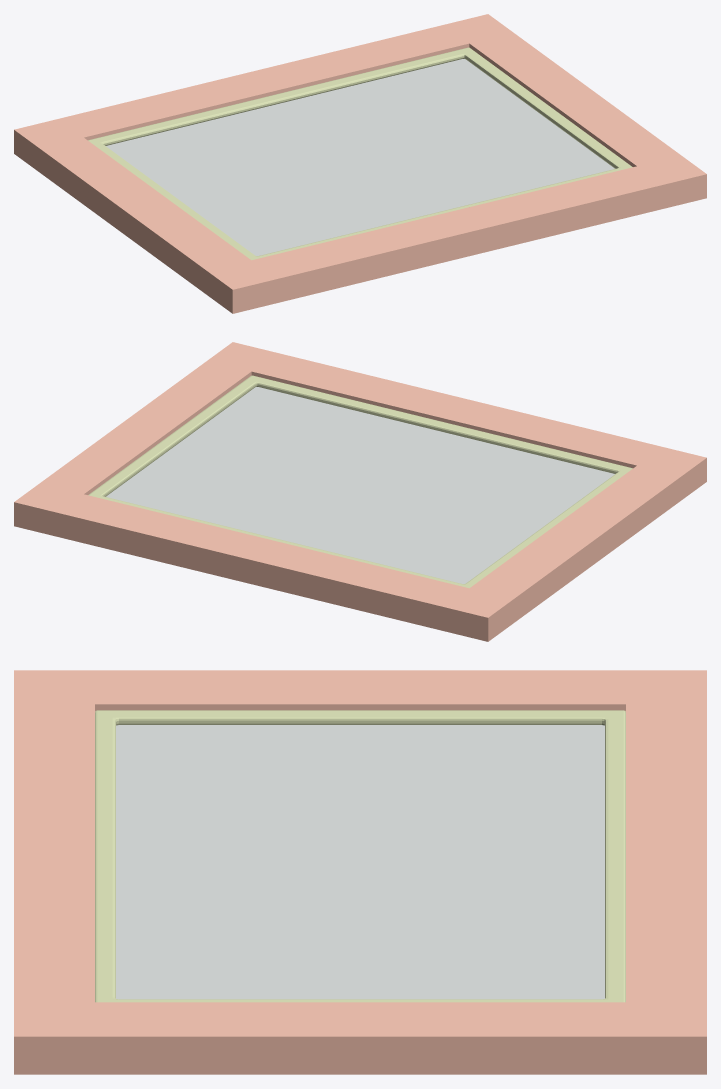
File: broken_photo_frame_1.1.fbx
3 renders of one model, top to bottom at view 1: azimuth 30°, elevation 25°; view 2: azimuth 150°, elevation 25°; view 3: azimuth 270°, elevation 25°, orthographic. The views are drawn at different scales.
Parts seen in each view (by area): view 1: Plane, Plane.001, Plane.001_cell.003, Plane_cell.001, Plane_cell, Plane_cell.002, Plane.002, Plane.002_cell.003, Plane.002_cell.001, Plane_cell.004, Plane_cell.003, Plane.002_cell.002; view 2: Plane, Plane.001, Plane.001_cell.003, Plane_cell, Plane_cell.001, Plane.002, Plane_cell.002, Plane.002_cell.001, Plane_cell.004, Plane.002_cell.003, Plane_cell.003, Plane.002_cell.002; view 3: Plane, Plane.001, Plane.001_cell.003, Plane_cell.002, Plane_cell.001, Plane.001_cell.001, Plane.002, Plane_cell, Plane.002_cell.001, Plane.002_cell.003, Plane_cell.004.
Boxes of the visible parts, box(x1,y1,x2,y2) form: Plane: box(14, 28, 706, 313); Plane.001: box(106, 69, 614, 255); Plane.001_cell.003: box(269, 69, 555, 194); Plane_cell.001: box(14, 119, 228, 277); Plane_cell: box(57, 57, 338, 140); Plane_cell.002: box(315, 28, 706, 237); Plane.002: box(88, 55, 632, 260); Plane.002_cell.003: box(177, 47, 508, 123); Plane.002_cell.001: box(88, 119, 504, 259); Plane_cell.004: box(340, 14, 507, 50); Plane_cell.003: box(183, 238, 487, 313); Plane.002_cell.002: box(503, 76, 575, 132); Plane: box(14, 342, 706, 641); Plane.001: box(117, 387, 614, 583); Plane.001_cell.003: box(133, 433, 416, 544); Plane_cell: box(189, 526, 461, 624); Plane_cell.001: box(447, 482, 656, 641); Plane.002: box(102, 375, 632, 587); Plane_cell.002: box(34, 348, 392, 543); Plane.002_cell.001: box(374, 406, 632, 588); Plane_cell.004: box(14, 488, 161, 538); Plane.002_cell.003: box(88, 467, 375, 565); Plane_cell.003: box(475, 427, 706, 516); Plane.002_cell.002: box(125, 419, 203, 468); Plane: box(14, 670, 706, 1074); Plane.001: box(116, 725, 604, 999); Plane.001_cell.003: box(193, 854, 604, 999); Plane_cell.002: box(14, 901, 706, 1074); Plane_cell.001: box(167, 670, 706, 711); Plane.001_cell.001: box(116, 725, 604, 861); Plane.002: box(95, 710, 625, 1002); Plane_cell: box(626, 703, 706, 901); Plane.002_cell.001: box(95, 710, 625, 909); Plane.002_cell.003: box(485, 782, 625, 1002); Plane_cell.004: box(645, 921, 706, 1074).
Bounding box in the file's own units: 250 × 12.16 × 200.
